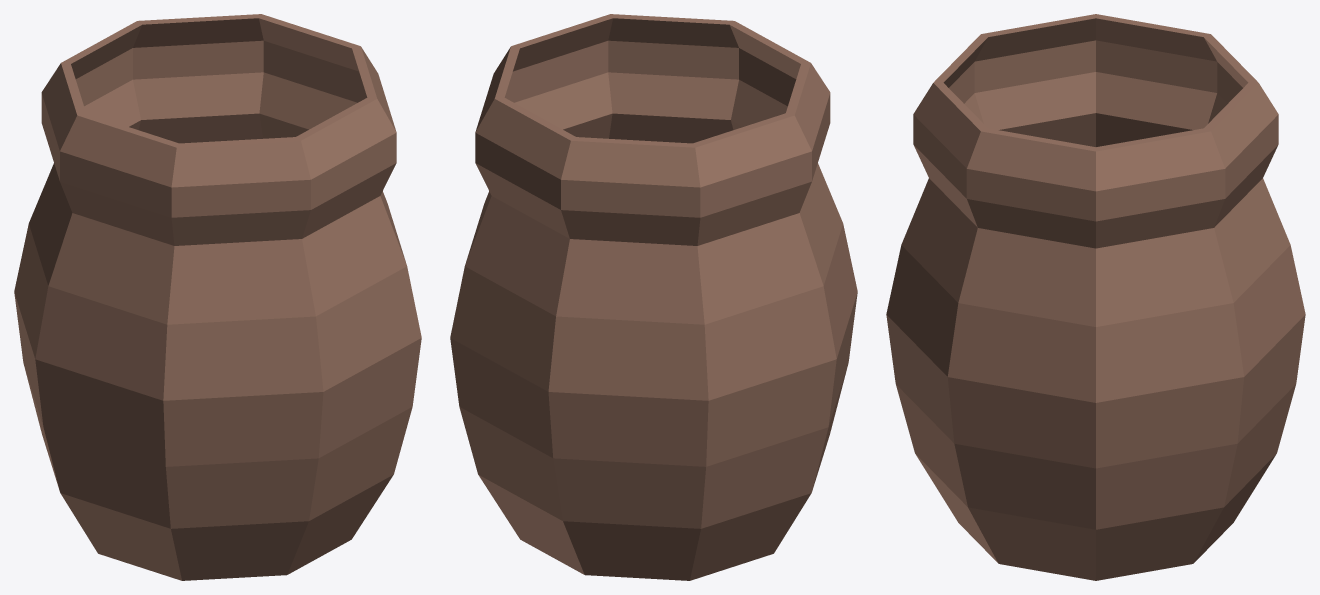
The model's file is Jugs_3.fbx.
3 views of the same model, side by side, from view 1: azimuth 30°, elevation 25°; view 2: azimuth 150°, elevation 25°; view 3: azimuth 270°, elevation 25° (orthographic).
Visible parts, largest first — view 1: Cylinder.001; view 2: Cylinder.001; view 3: Cylinder.001.
Boxes of the visible parts, <box> form: Cylinder.001: <box>14,14,421,580</box>; Cylinder.001: <box>450,14,857,580</box>; Cylinder.001: <box>886,14,1305,580</box>.
Size of the model in its own units: 33.78 by 39.16 by 33.78.
